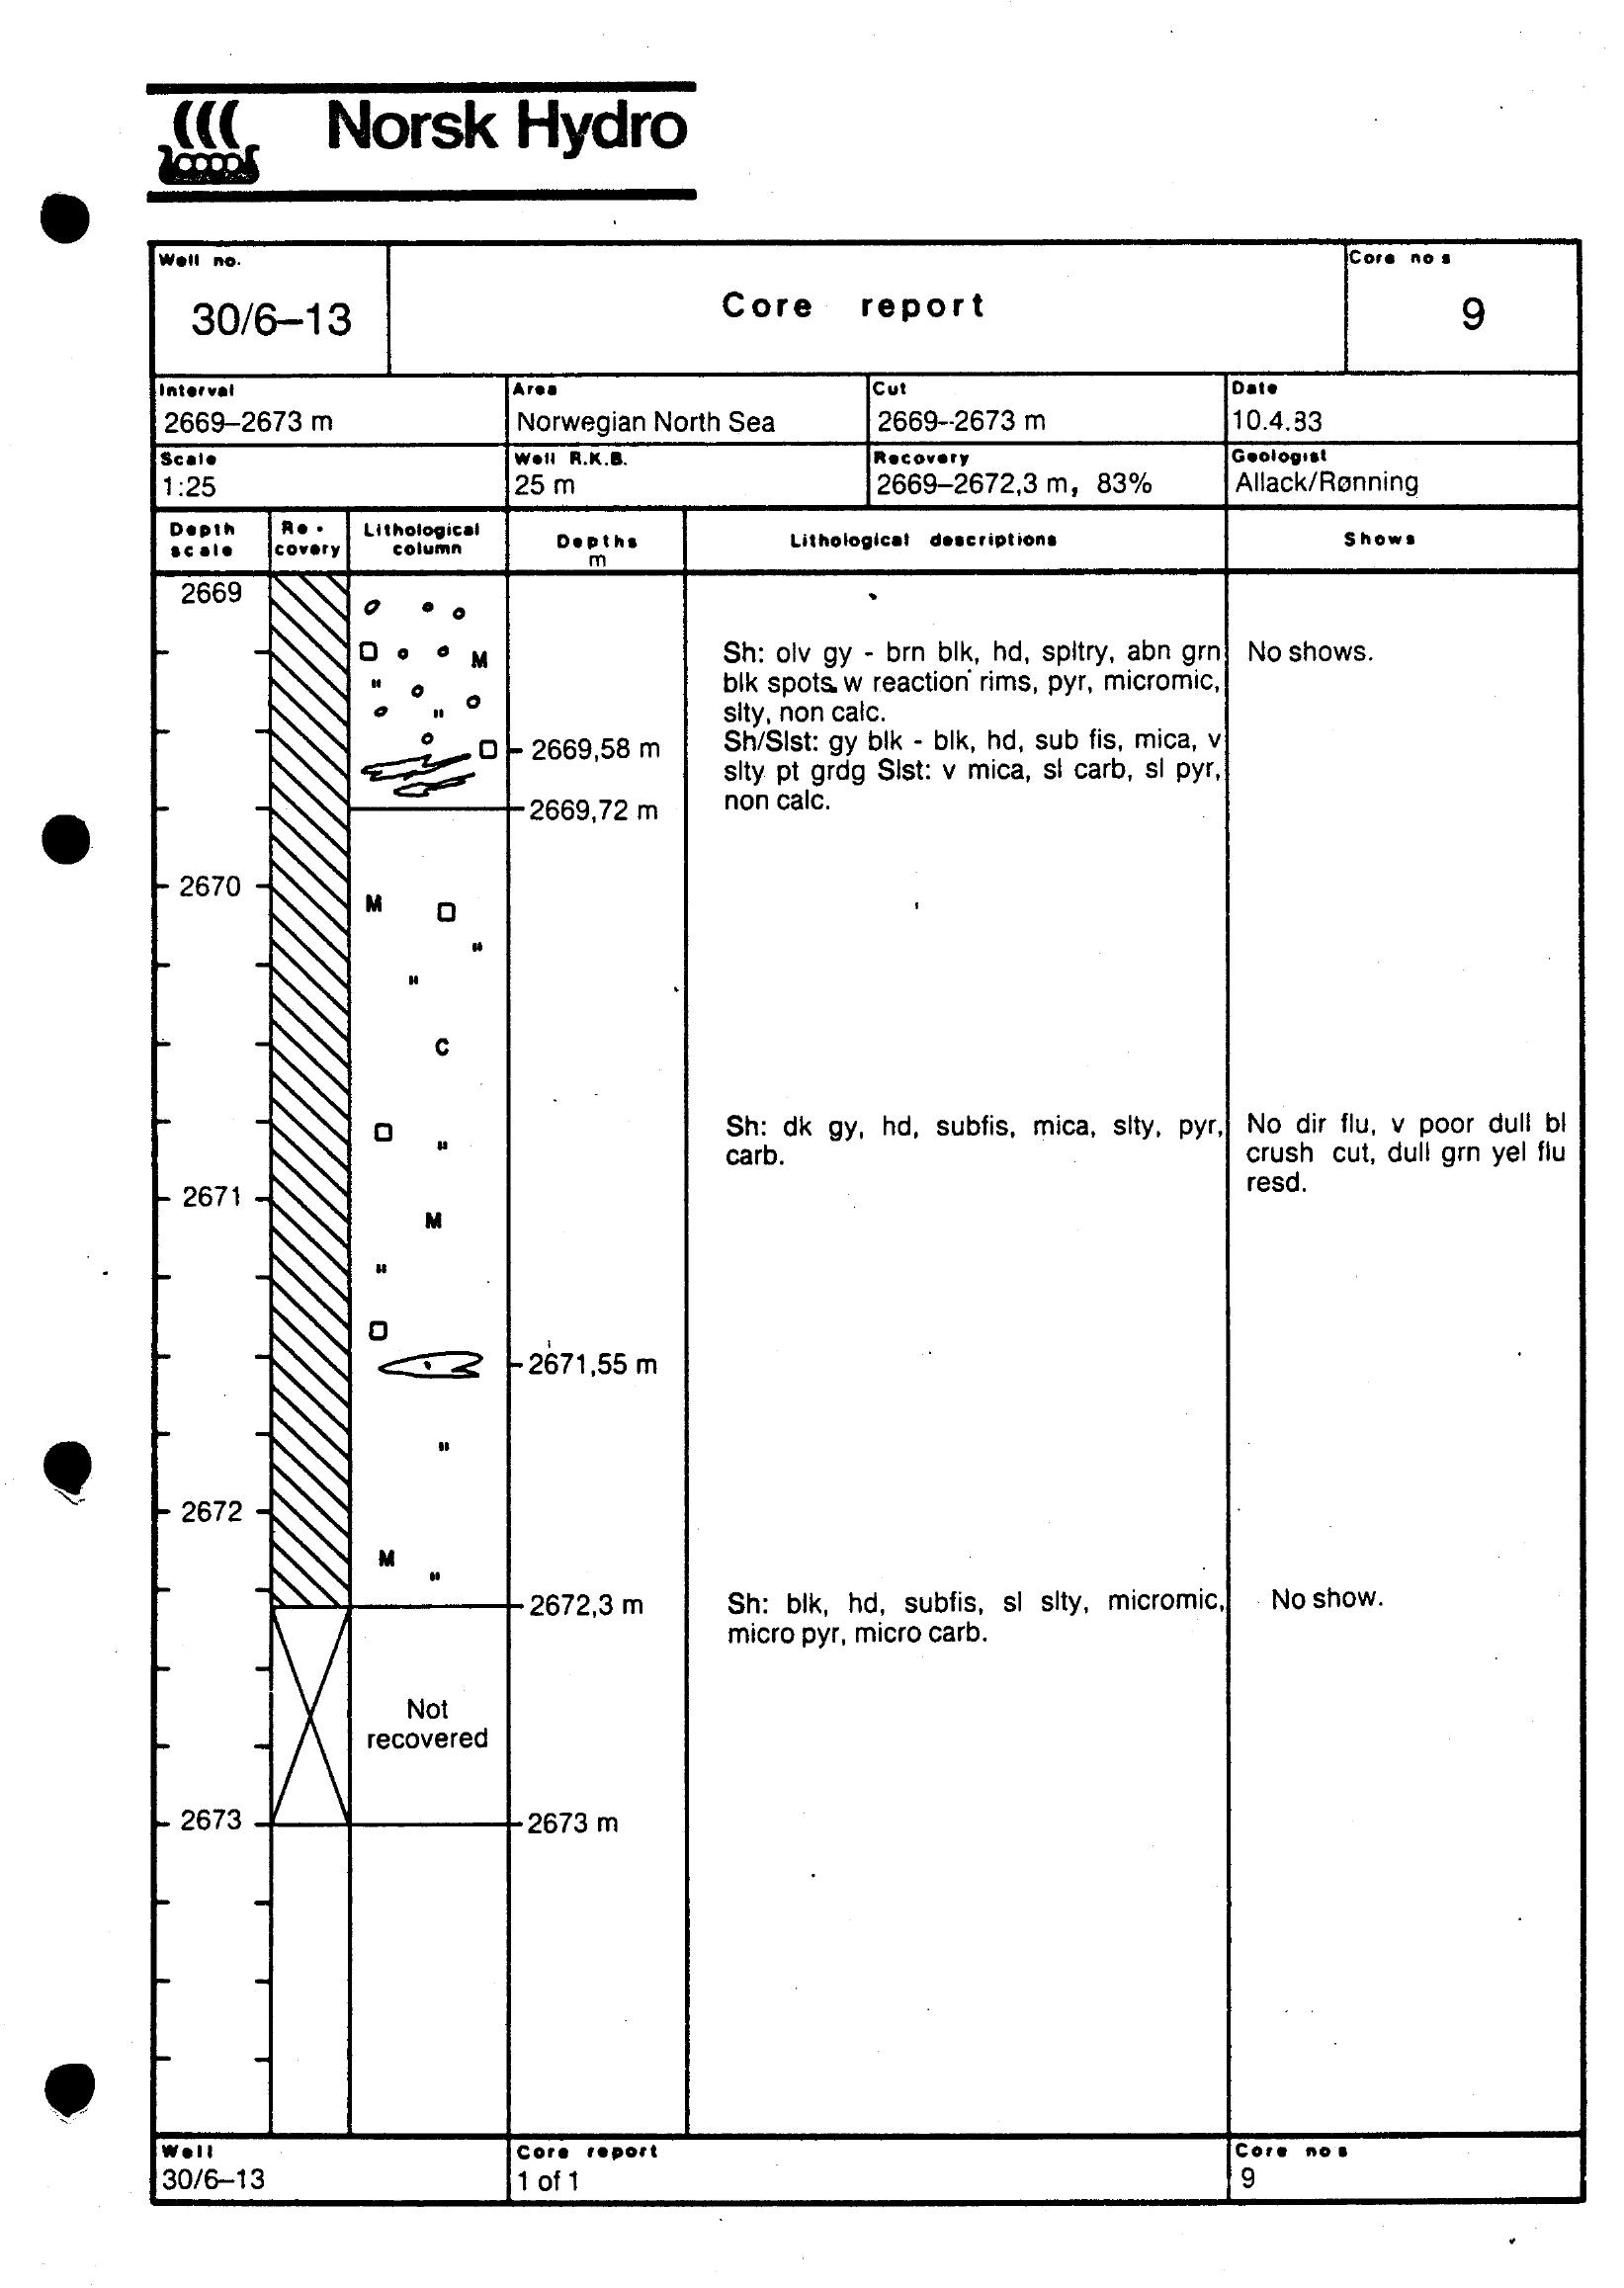graph: (118, 218, 1624, 2237)
undefined: (107, 39, 738, 225)
